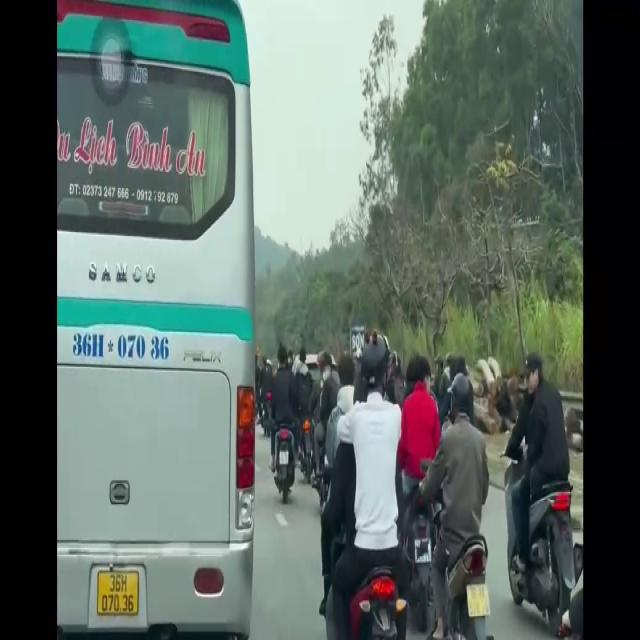helmet: (362, 326, 391, 407), (526, 351, 544, 404)
